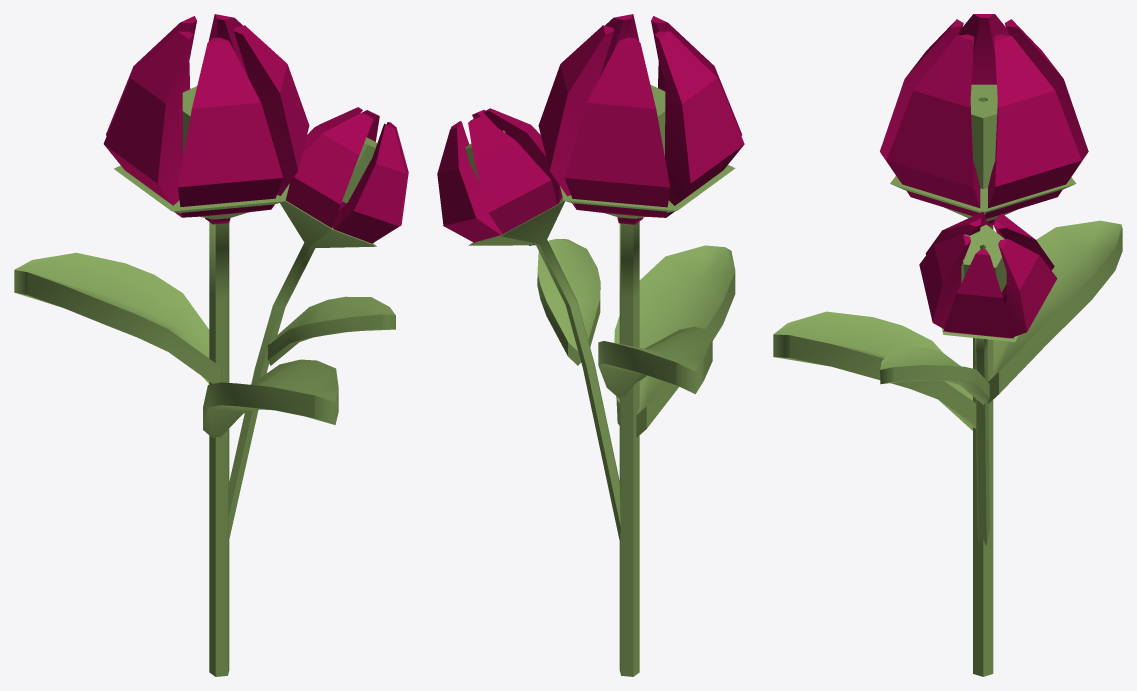
Rendered from Tulip.glb.
3 renders of one model, left to right at view 1: azimuth 30°, elevation 25°; view 2: azimuth 150°, elevation 25°; view 3: azimuth 270°, elevation 25°, orthographic.
Parts seen in each view (by area): view 1: pPipe2, pCube2, pPipe9, pPipe3, pCube1, pPipe10, pCube5, pPipe11; view 2: pPipe2, pPipe9, pPipe3, pCube1, pCube2, pPipe10, pCube5, pPipe4; view 3: pPipe2, pPipe9, pCube2, pCube1, pPipe3, pCube5, pPipe10, pPipe4, pPipe11.
Boxes of the visible parts, bbox=[...] form: pPipe2: bbox=[103, 14, 309, 224]; pCube2: bbox=[14, 252, 221, 383]; pPipe9: bbox=[286, 107, 408, 243]; pPipe3: bbox=[114, 165, 289, 676]; pCube1: bbox=[203, 359, 338, 437]; pPipe10: bbox=[228, 200, 376, 540]; pCube5: bbox=[267, 296, 395, 365]; pPipe11: bbox=[342, 137, 377, 203]; pPipe2: bbox=[538, 14, 744, 224]; pPipe9: bbox=[437, 108, 562, 245]; pPipe3: bbox=[560, 165, 735, 676]; pCube1: bbox=[614, 245, 735, 437]; pCube2: bbox=[598, 326, 712, 399]; pPipe10: bbox=[468, 197, 620, 540]; pCube5: bbox=[537, 239, 600, 365]; pPipe4: bbox=[650, 84, 665, 156]; pPipe2: bbox=[880, 14, 1088, 226]; pPipe9: bbox=[919, 211, 1057, 338]; pCube2: bbox=[988, 220, 1122, 403]; pCube1: bbox=[773, 311, 975, 430]; pPipe3: bbox=[890, 176, 1076, 676]; pCube5: bbox=[880, 346, 989, 404]; pPipe10: bbox=[941, 328, 1018, 545]; pPipe4: bbox=[970, 84, 997, 188]; pPipe11: bbox=[961, 224, 1006, 292].
Bounding box in the file's own units: 1.89 × 3.69 × 1.82.
